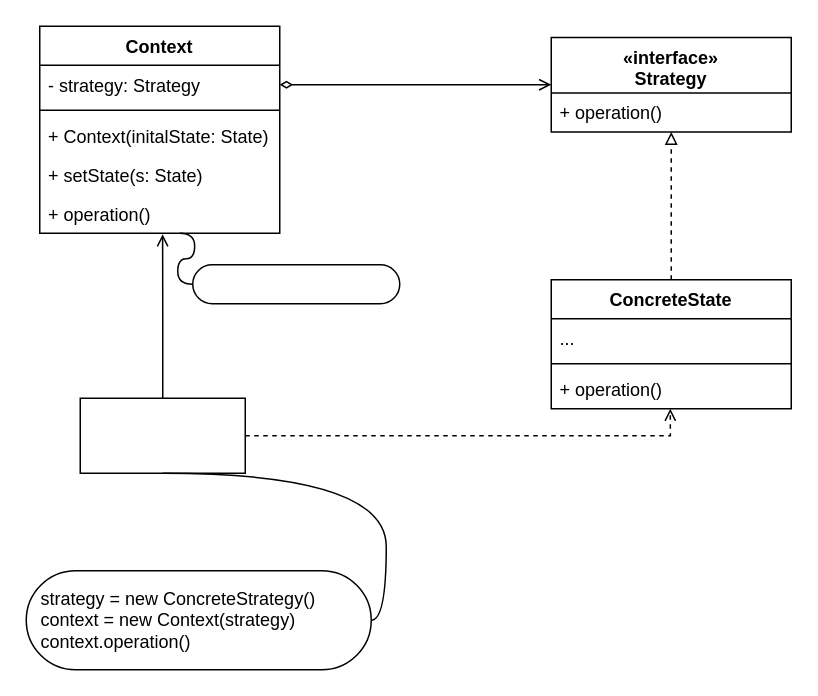
Image size: 818x696. Some labels were removed from this diagram. The centre of each missing label's shape, as x and y in pixels:
"Client" goes at point (162, 435).
"strategy.operation()" goes at point (295, 283).
